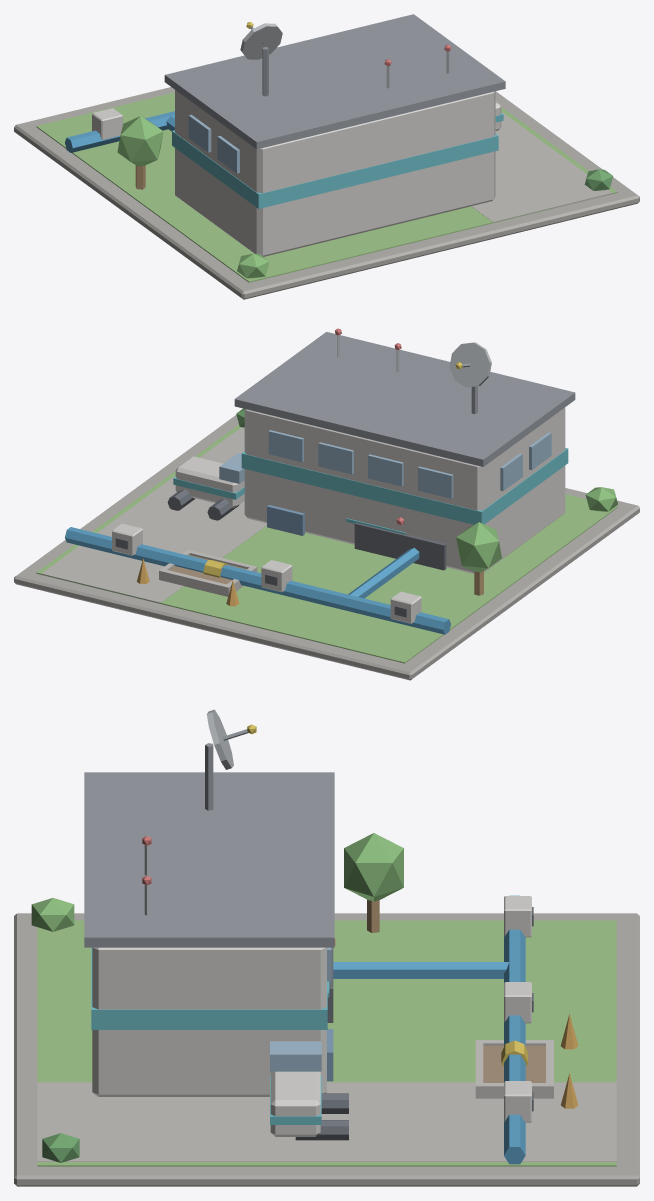
File: agua__centro_controle_perdas.glb
3 views of the same model, one above another, from view 1: azimuth 30°, elevation 25°; view 2: azimuth 150°, elevation 25°; view 3: azimuth 270°, elevation 25° (orthographic). The views are drawn at different scales.
Visible parts, largest first — view 1: agua__centro_controle_perdas; view 2: agua__centro_controle_perdas; view 3: agua__centro_controle_perdas.
Part boxes in pixels (left/top/right/bottom): agua__centro_controle_perdas: left=14, top=14, right=639, bottom=299; agua__centro_controle_perdas: left=14, top=328, right=639, bottom=680; agua__centro_controle_perdas: left=14, top=709, right=639, bottom=1186.
Size of the model in its own units: 4 by 2.06 by 4.
